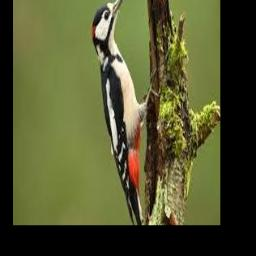Woodpecker: (92, 0, 160, 225)
